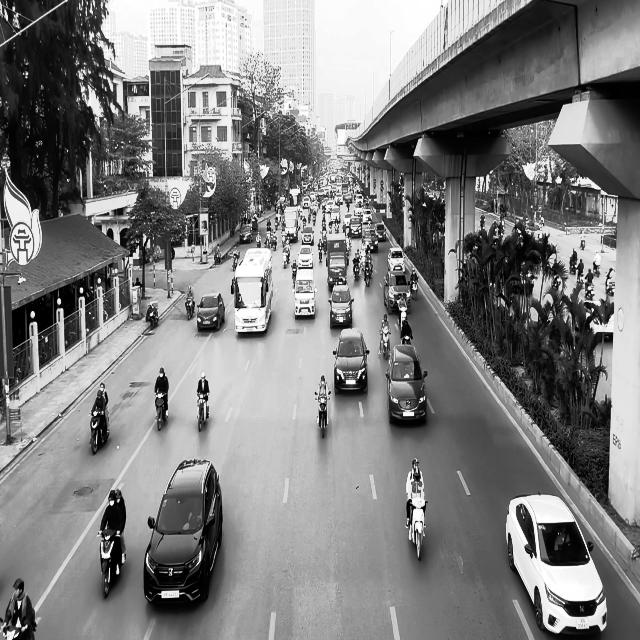bus: (230, 247, 272, 334)
car: (506, 492, 608, 636), (143, 458, 223, 605), (385, 344, 428, 424), (332, 327, 370, 394), (384, 270, 412, 314), (328, 284, 354, 328), (197, 291, 225, 331), (292, 276, 317, 320), (239, 224, 252, 244)
motorbike: (97, 528, 126, 598), (406, 498, 428, 560), (90, 406, 110, 454), (314, 390, 331, 438), (154, 390, 168, 431), (197, 391, 210, 431), (378, 327, 391, 360), (146, 302, 159, 328), (397, 303, 407, 330), (185, 298, 195, 320)
